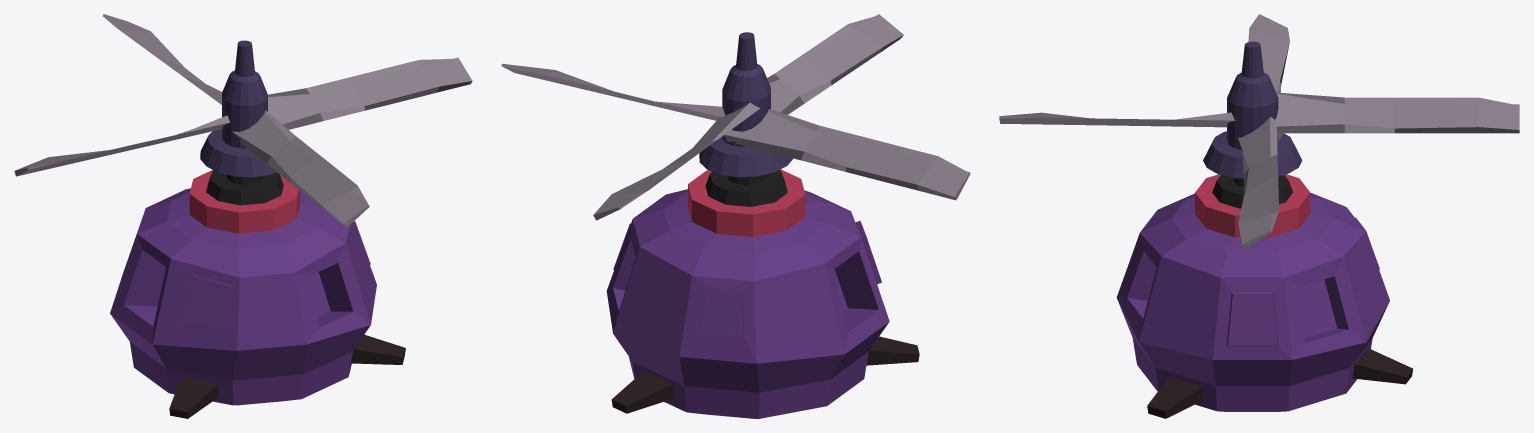
The model's file is robot2.fbx.
The picture shows the model from 3 angles, left to right: view 1: azimuth 30°, elevation 25°; view 2: azimuth 150°, elevation 25°; view 3: azimuth 270°, elevation 25°; orthographic projection. The views are drawn at different scales.
Parts seen in each view (by area): view 1: Circle, Cube.001, Cube.003, Circle.001, Cube.002, Cube; view 2: Circle, Cube.002, Cube.003, Circle.001, Cube, Cube.001; view 3: Circle, Cube, Circle.001, Cube.001, Cube.003, Cube.002.
Boxes of the visible parts, x1,y1,x2,y2 form: Circle: (110, 170, 405, 418); Cube.001: (268, 57, 472, 129); Cube.003: (223, 110, 369, 227); Circle.001: (200, 40, 276, 177); Cube.002: (14, 115, 230, 176); Cube: (103, 14, 222, 104); Circle: (606, 169, 919, 418); Cube.002: (724, 109, 970, 200); Cube.003: (767, 14, 903, 114); Circle.001: (699, 32, 793, 177); Cube: (593, 102, 759, 220); Cube.001: (501, 63, 724, 120); Circle: (1116, 174, 1412, 418); Cube: (1275, 92, 1519, 133); Circle.001: (1203, 41, 1302, 178); Cube.001: (1238, 117, 1278, 248); Cube.003: (999, 112, 1235, 127); Cube.002: (1248, 14, 1289, 141).
Bounding box in the file's own units: 457 × 330 × 463.
